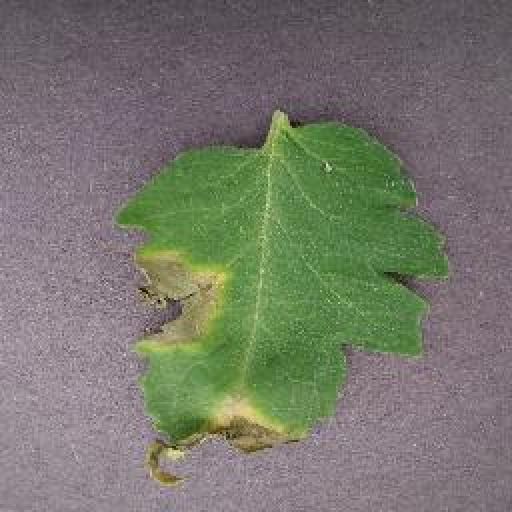disease_tomato: (108, 118, 452, 490)
